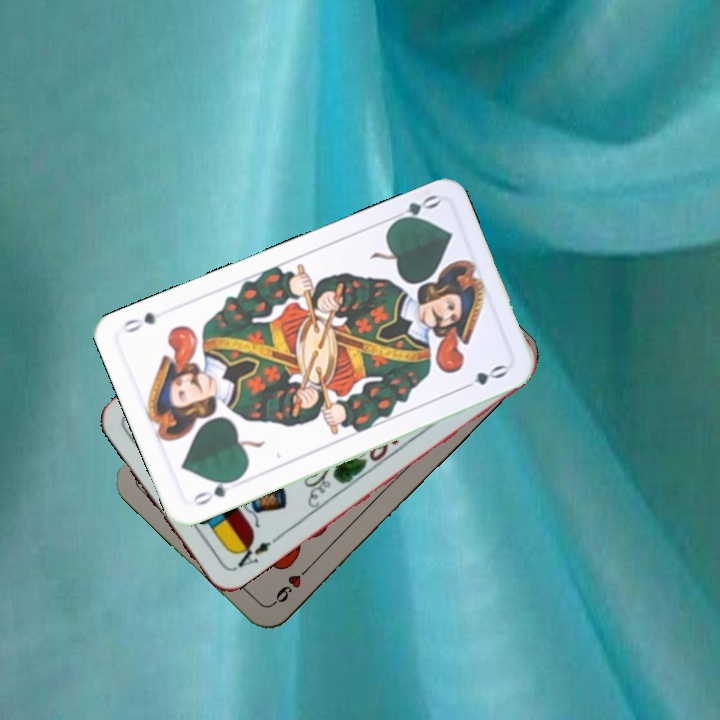EA: (229, 533, 281, 573)
GO: (385, 190, 442, 228), (189, 473, 242, 509)
H9: (268, 561, 314, 608)
